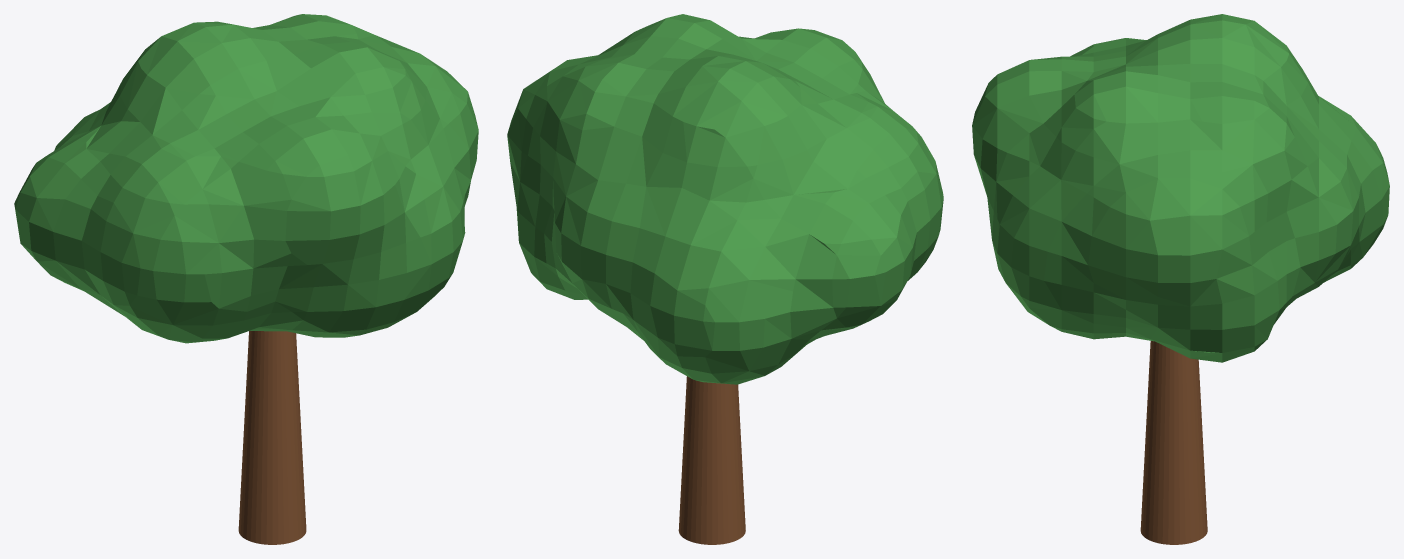
Rendered from ufo_tree1.fbx.
The picture shows the model from 3 angles, left to right: view 1: azimuth 30°, elevation 25°; view 2: azimuth 150°, elevation 25°; view 3: azimuth 270°, elevation 25°; orthographic projection.
Parts seen in each view (by area): view 1: Mball.013, Cylinder; view 2: Mball.013, Cylinder; view 3: Mball.013, Cylinder.
Boxes of the visible parts, bbox=[...] form: Mball.013: bbox=[14, 14, 478, 343]; Cylinder: bbox=[238, 331, 306, 544]; Mball.013: bbox=[507, 14, 943, 384]; Cylinder: bbox=[678, 376, 745, 544]; Mball.013: bbox=[972, 14, 1389, 362]; Cylinder: bbox=[1140, 341, 1207, 544].
Size of the model in its own units: 359 by 411 by 318.
